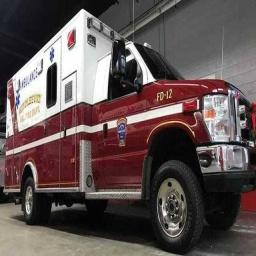ambulance: (5, 10, 255, 252)
